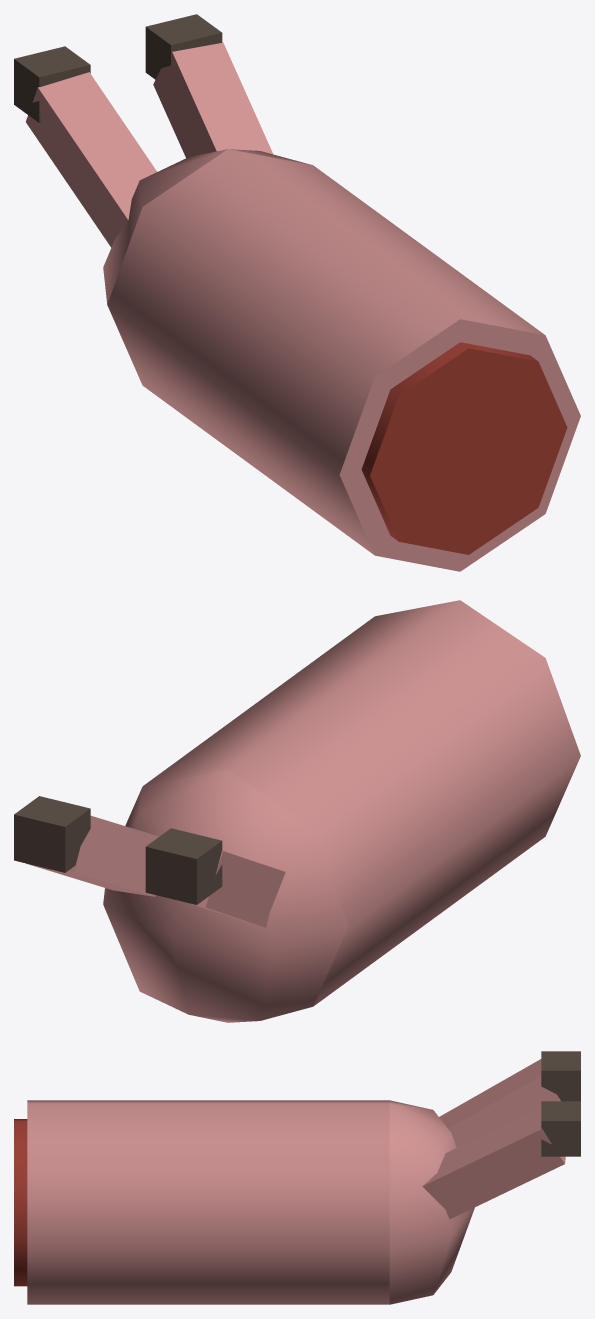
Rendered from crf_carcass.glb.
The picture shows the model from 3 angles, top to bottom: view 1: azimuth 30°, elevation 25°; view 2: azimuth 150°, elevation 25°; view 3: azimuth 270°, elevation 25°; orthographic projection. The views are drawn at different scales.
Parts seen in each view (by area): view 1: crf_carcass; view 2: crf_carcass; view 3: crf_carcass.
Boxes of the visible parts, x1=… form: crf_carcass: x1=14, y1=14, x2=580, y2=571; crf_carcass: x1=14, y1=600, x2=580, y2=1022; crf_carcass: x1=14, y1=1051, x2=580, y2=1304.
Size of the model in its own units: 0.066 by 0.072 by 0.172.
